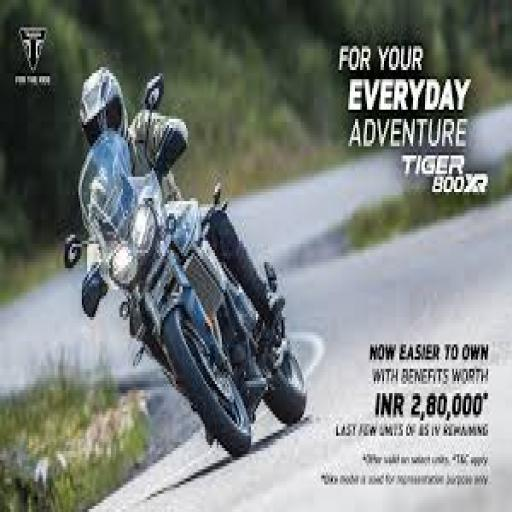helmet: (77, 64, 128, 143)
